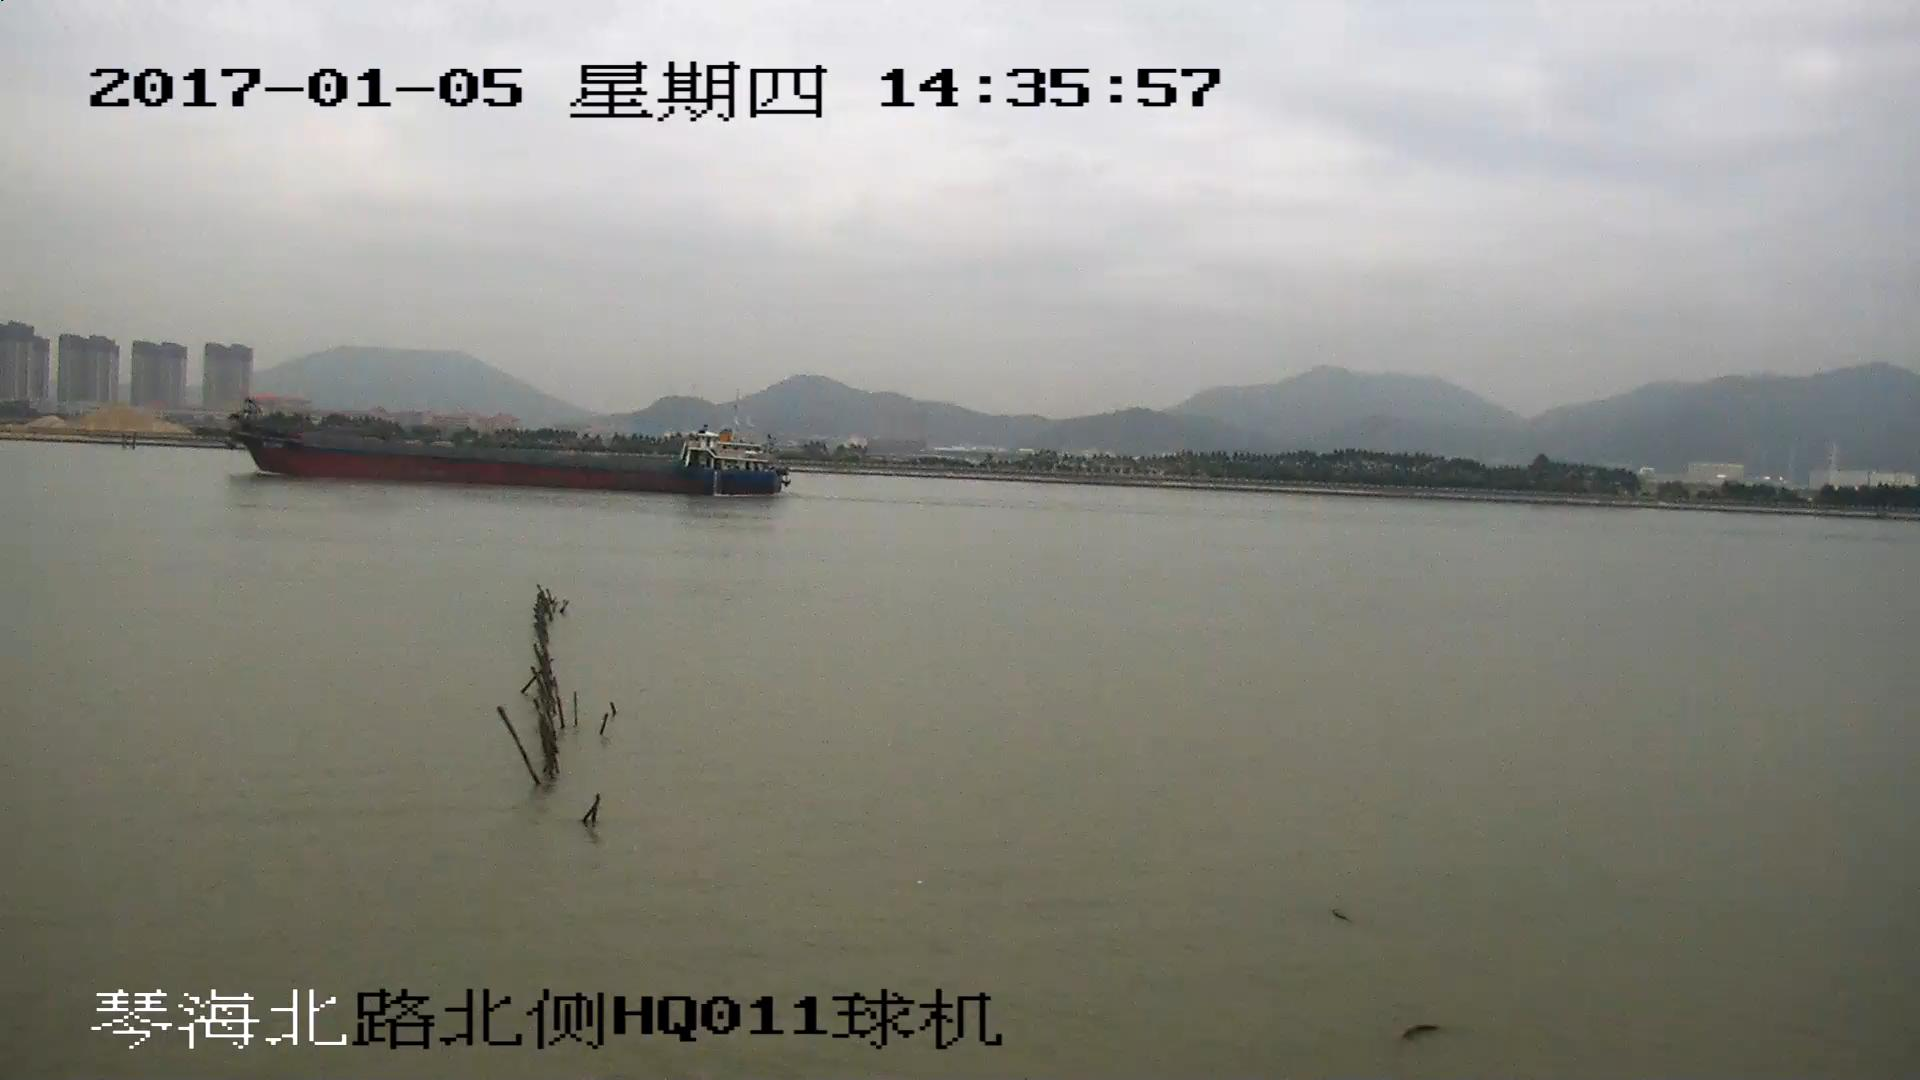bulk cargo carrier: (219, 405, 793, 496)
